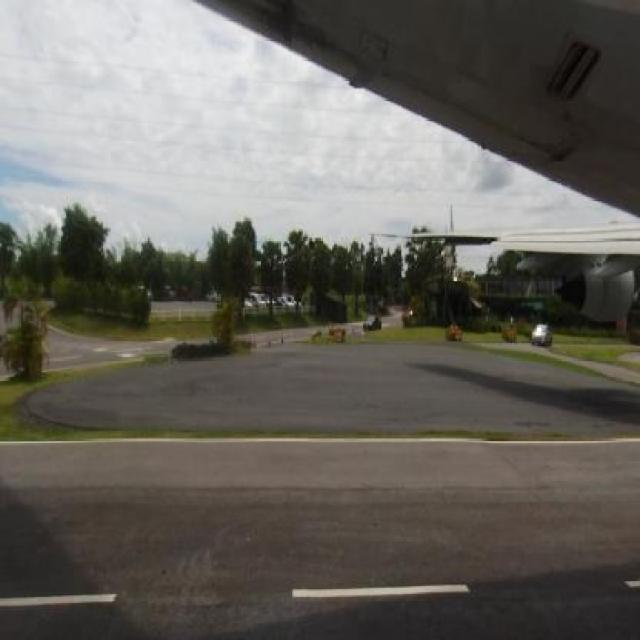Rust: (223, 2, 369, 80), (513, 102, 604, 198)
